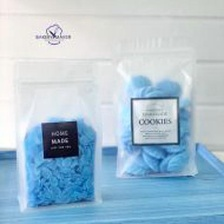snack: (7, 52, 108, 217), (108, 47, 206, 185)
